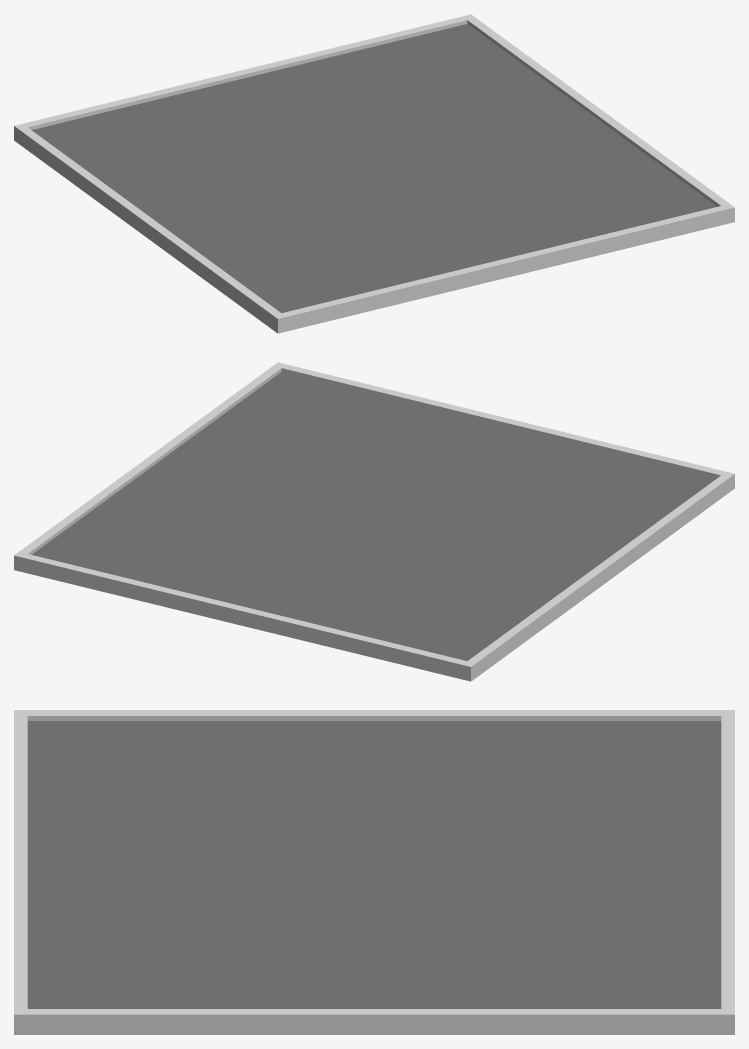
File: nen_xi_mang.fbx
3 renders of one model, top to bottom at view 1: azimuth 30°, elevation 25°; view 2: azimuth 150°, elevation 25°; view 3: azimuth 270°, elevation 25°, orthographic. The views are drawn at different scales.
Visible parts, largest first — view 1: Floor_4; view 2: Floor_4; view 3: Floor_4.
Part boxes in pixels (left/top/right/bottom): Floor_4: left=14, top=14, right=734, bottom=333; Floor_4: left=14, top=362, right=734, bottom=681; Floor_4: left=14, top=710, right=734, bottom=1034.
Size of the model in its own units: 2006 by 61.54 by 2006.
